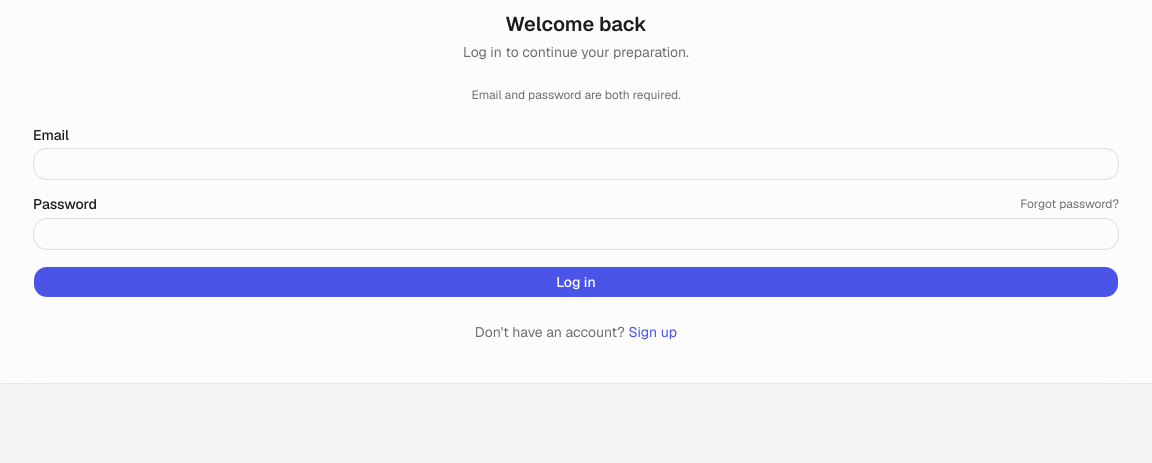
LoginForm › displays the server's error message and does not navigate on failed login
Type "cadet@example.com" into the field labelled "Email" at coordinates (576, 164), box [33, 148, 1119, 180]
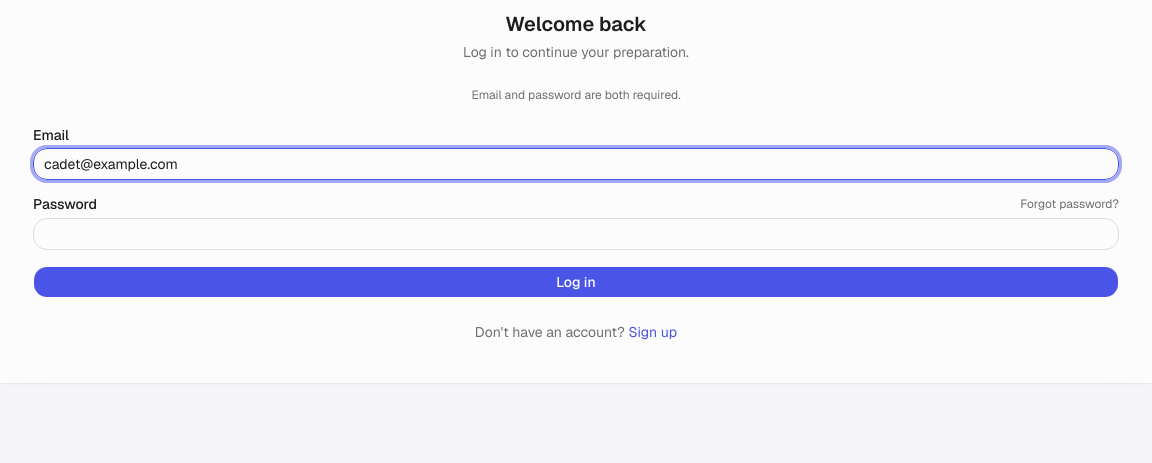
Type "wrongpassword" into the password field labelled "Password" at coordinates (576, 234), box [33, 218, 1119, 250]
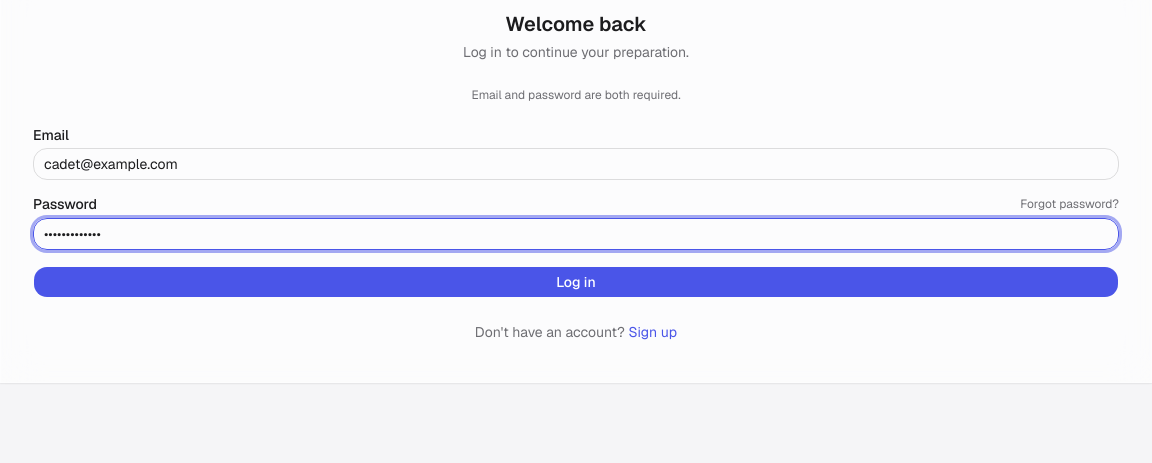
Click the button "Log in" at coordinates (576, 282), box [33, 266, 1119, 298]
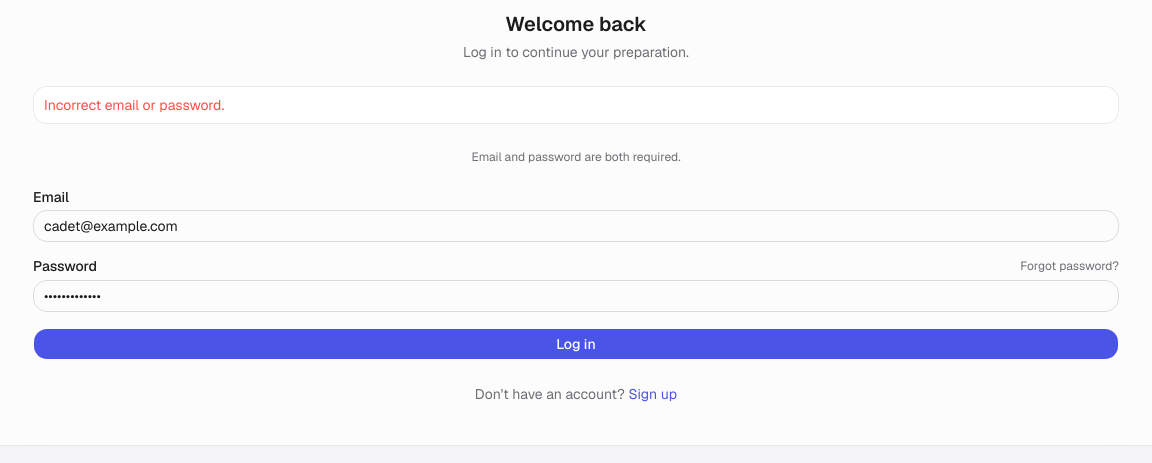
Now the text "Incorrect email or password." is shown, box [44, 96, 224, 114]
